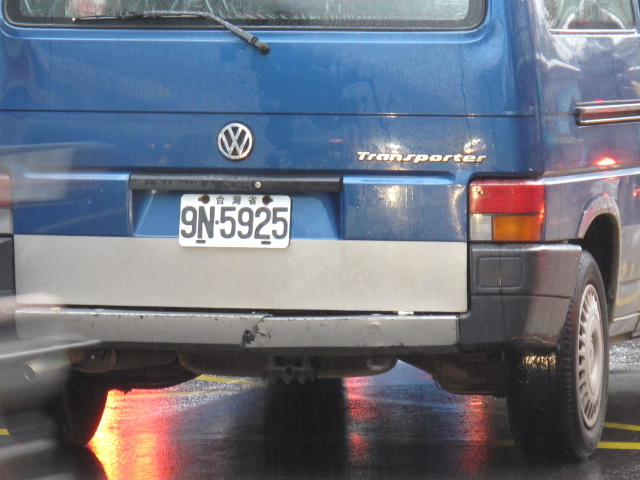plate: (178, 187, 294, 252)
